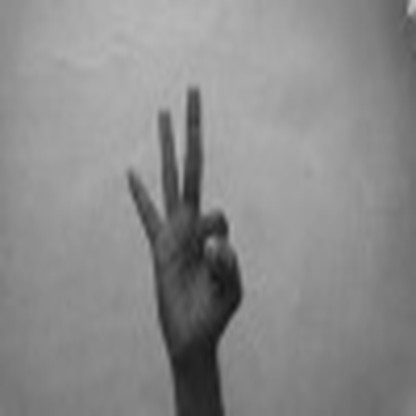f: (117, 80, 253, 339)
